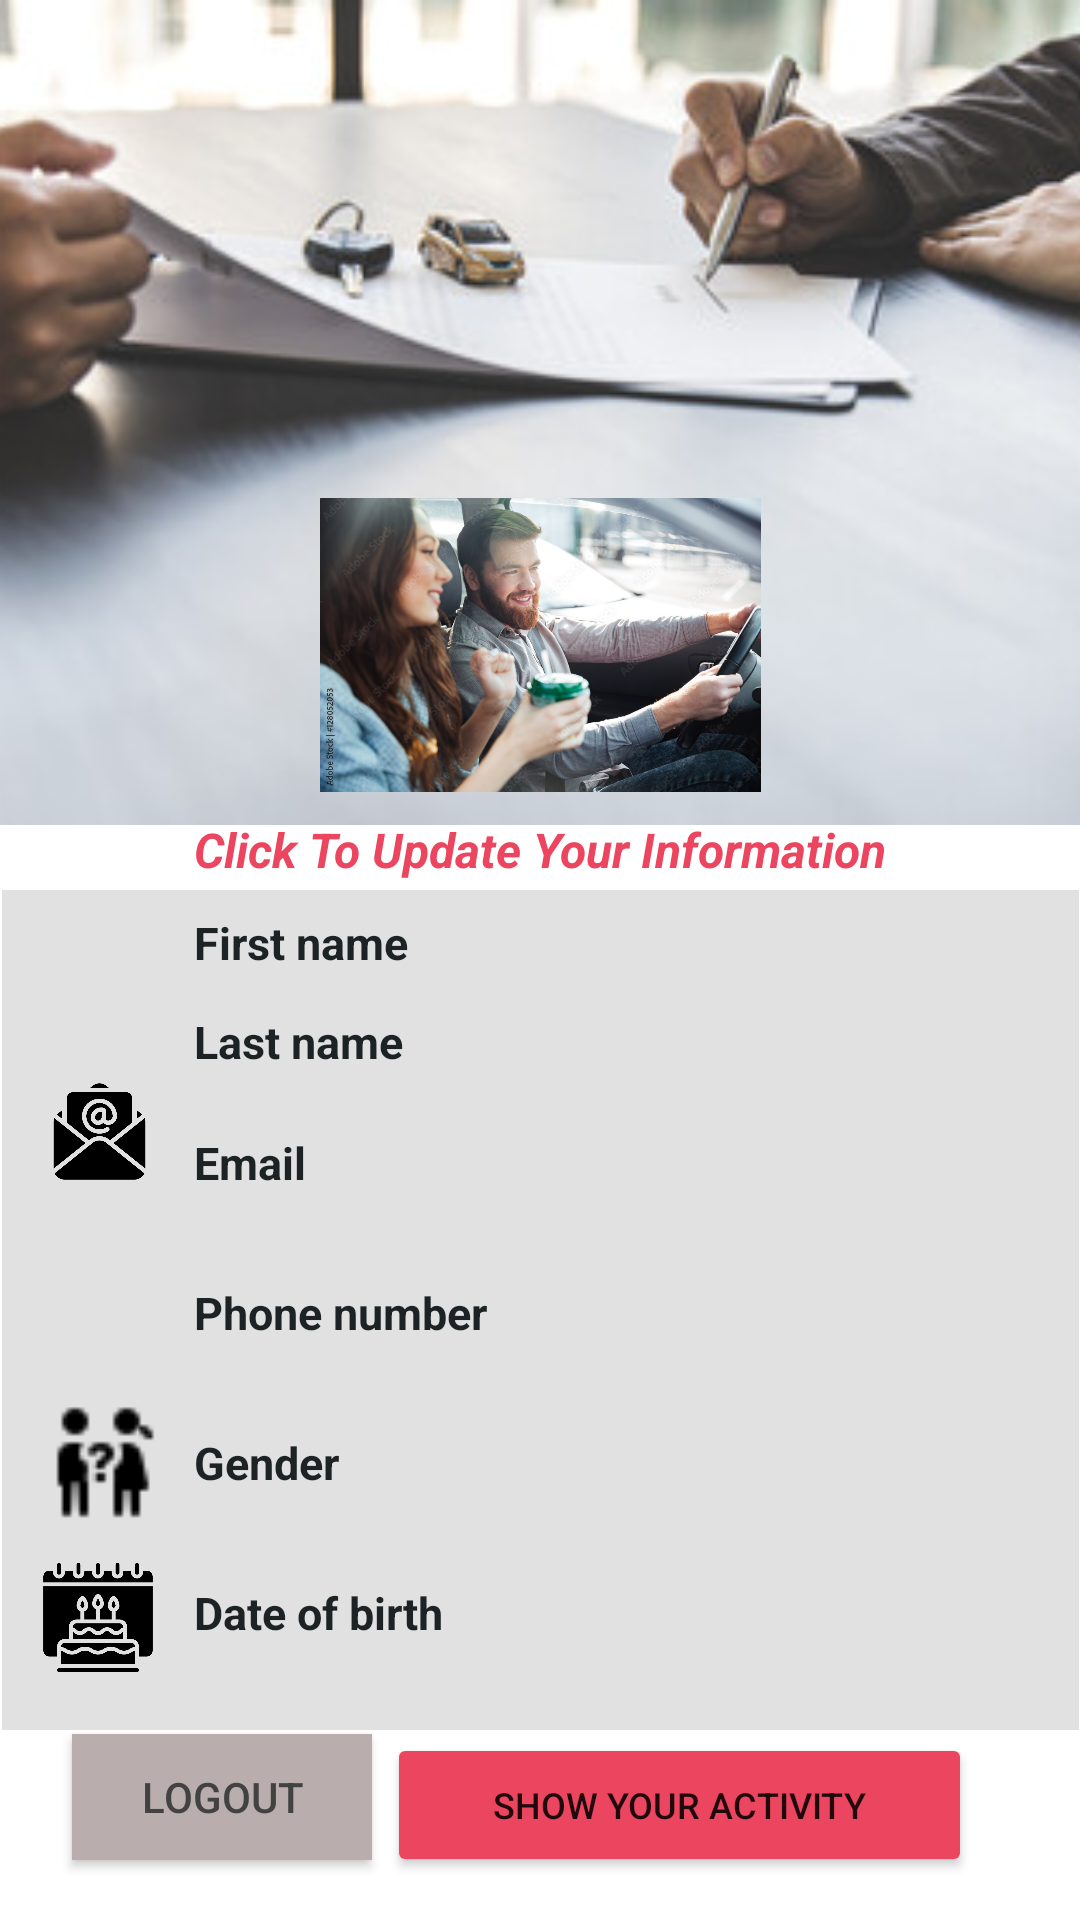

Named icons in this screenshot (1080 × 1920) and their centers, (x=x, y=y):
birthdaycake: (x=98, y=1617)
